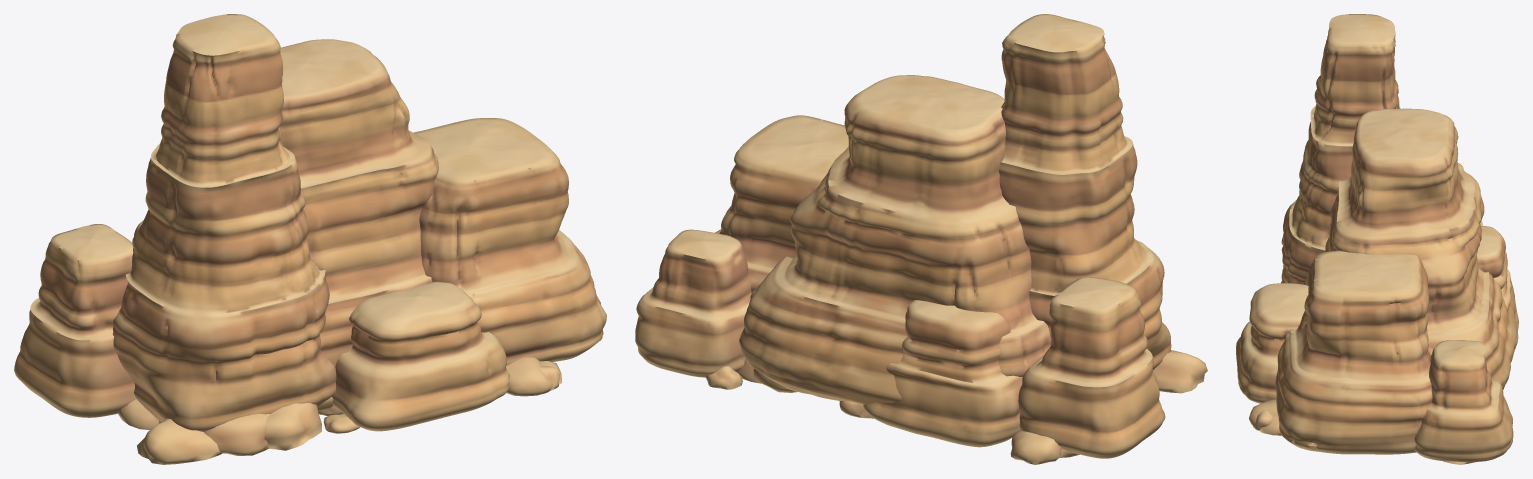
Rendered from SD_B01_Mesa_Cluster.fbx.
3 views of the same model, side by side, from view 1: azimuth 30°, elevation 25°; view 2: azimuth 150°, elevation 25°; view 3: azimuth 270°, elevation 25° (orthographic). The views are drawn at different scales.
Visible parts, largest first — view 1: Mesas_LOD0; view 2: Mesas_LOD0; view 3: Mesas_LOD0.
Part boxes in pixels (<box>): Mesas_LOD0: <box>14,14,606,464</box>; Mesas_LOD0: <box>635,14,1207,464</box>; Mesas_LOD0: <box>1236,14,1518,464</box>.
Size of what is drawn, in the model's own units: 20 by 14 by 12.
